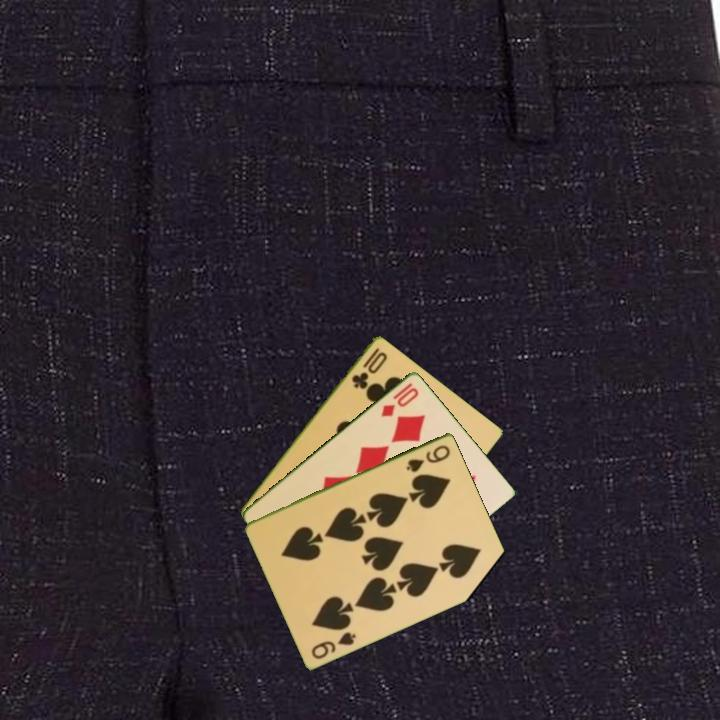10c: (348, 343, 390, 392)
10d: (377, 379, 422, 420)
9s: (308, 628, 359, 662), (403, 441, 453, 475)
